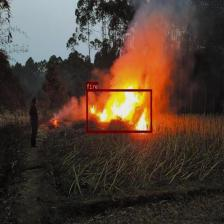fire: (86, 89, 152, 132)
